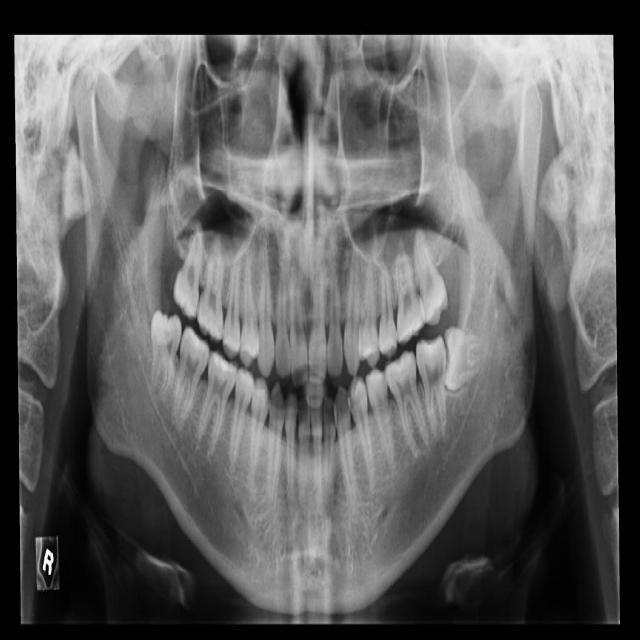impacted tooth: (149, 309, 183, 402), (445, 327, 491, 393)
